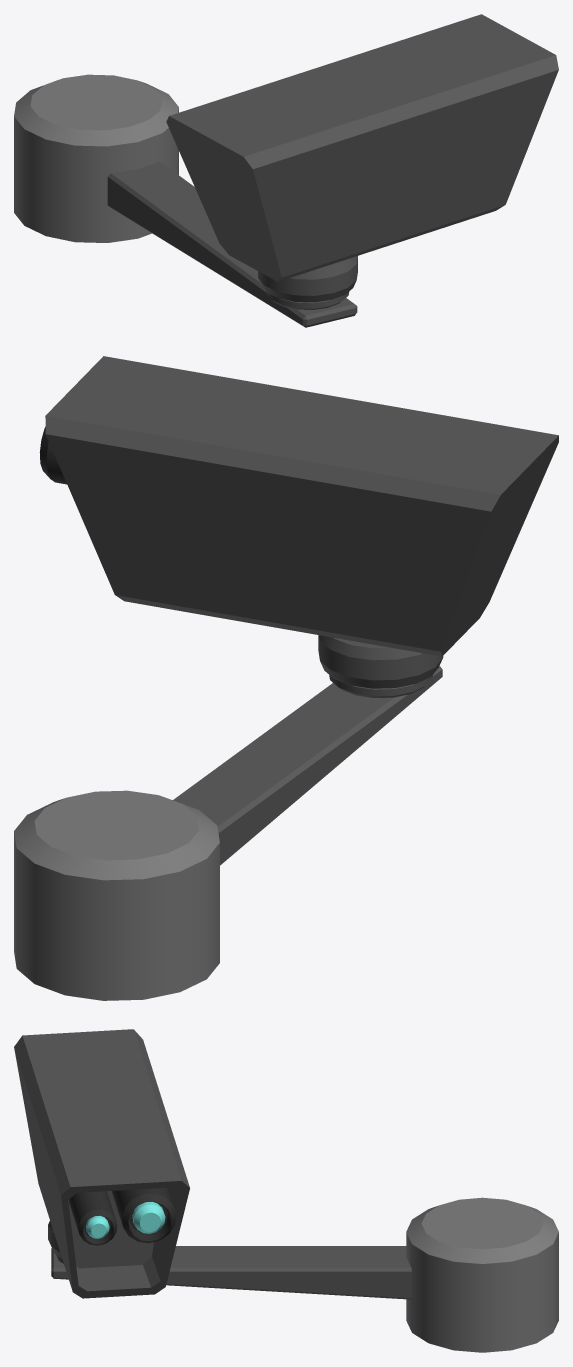
Rendered from Single_Camera.fbx.
The picture shows the model from 3 angles, top to bottom: view 1: azimuth 30°, elevation 25°; view 2: azimuth 150°, elevation 25°; view 3: azimuth 270°, elevation 25°; orthographic projection. The views are drawn at different scales.
Parts seen in each view (by area): view 1: Single_Camera1; view 2: Single_Camera1; view 3: Single_Camera1.
Boxes of the visible parts, left/top/right/bottom form: Single_Camera1: left=14, top=14, right=558, bottom=327; Single_Camera1: left=14, top=356, right=558, bottom=1000; Single_Camera1: left=14, top=1029, right=558, bottom=1352.
Bounding box in the file's own units: 0.5467 × 0.3885 × 0.7926.
